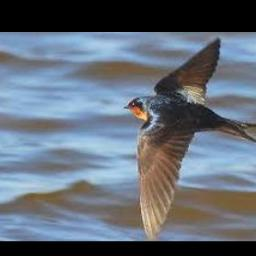Swallow: (123, 38, 256, 240)
